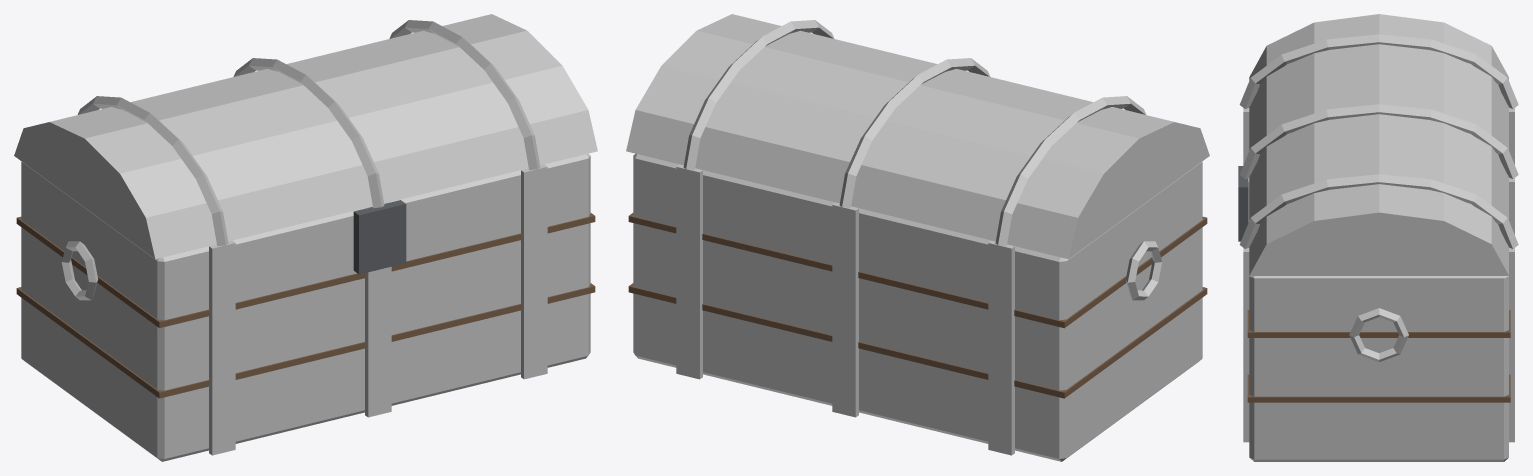
Rendered from clutter_chest.glb.
3 views of the same model, side by side, from view 1: azimuth 30°, elevation 25°; view 2: azimuth 150°, elevation 25°; view 3: azimuth 270°, elevation 25° (orthographic). The views are drawn at different scales.
Visible parts, largest first — view 1: clutter_chest; view 2: clutter_chest; view 3: clutter_chest.
Boxes of the visible parts, left/top/right/bottom form: clutter_chest: left=14, top=14, right=597, bottom=461; clutter_chest: left=626, top=14, right=1209, bottom=461; clutter_chest: left=1238, top=14, right=1518, bottom=461.
Size of the model in its own units: 0.98 by 0.58 by 0.5613.
